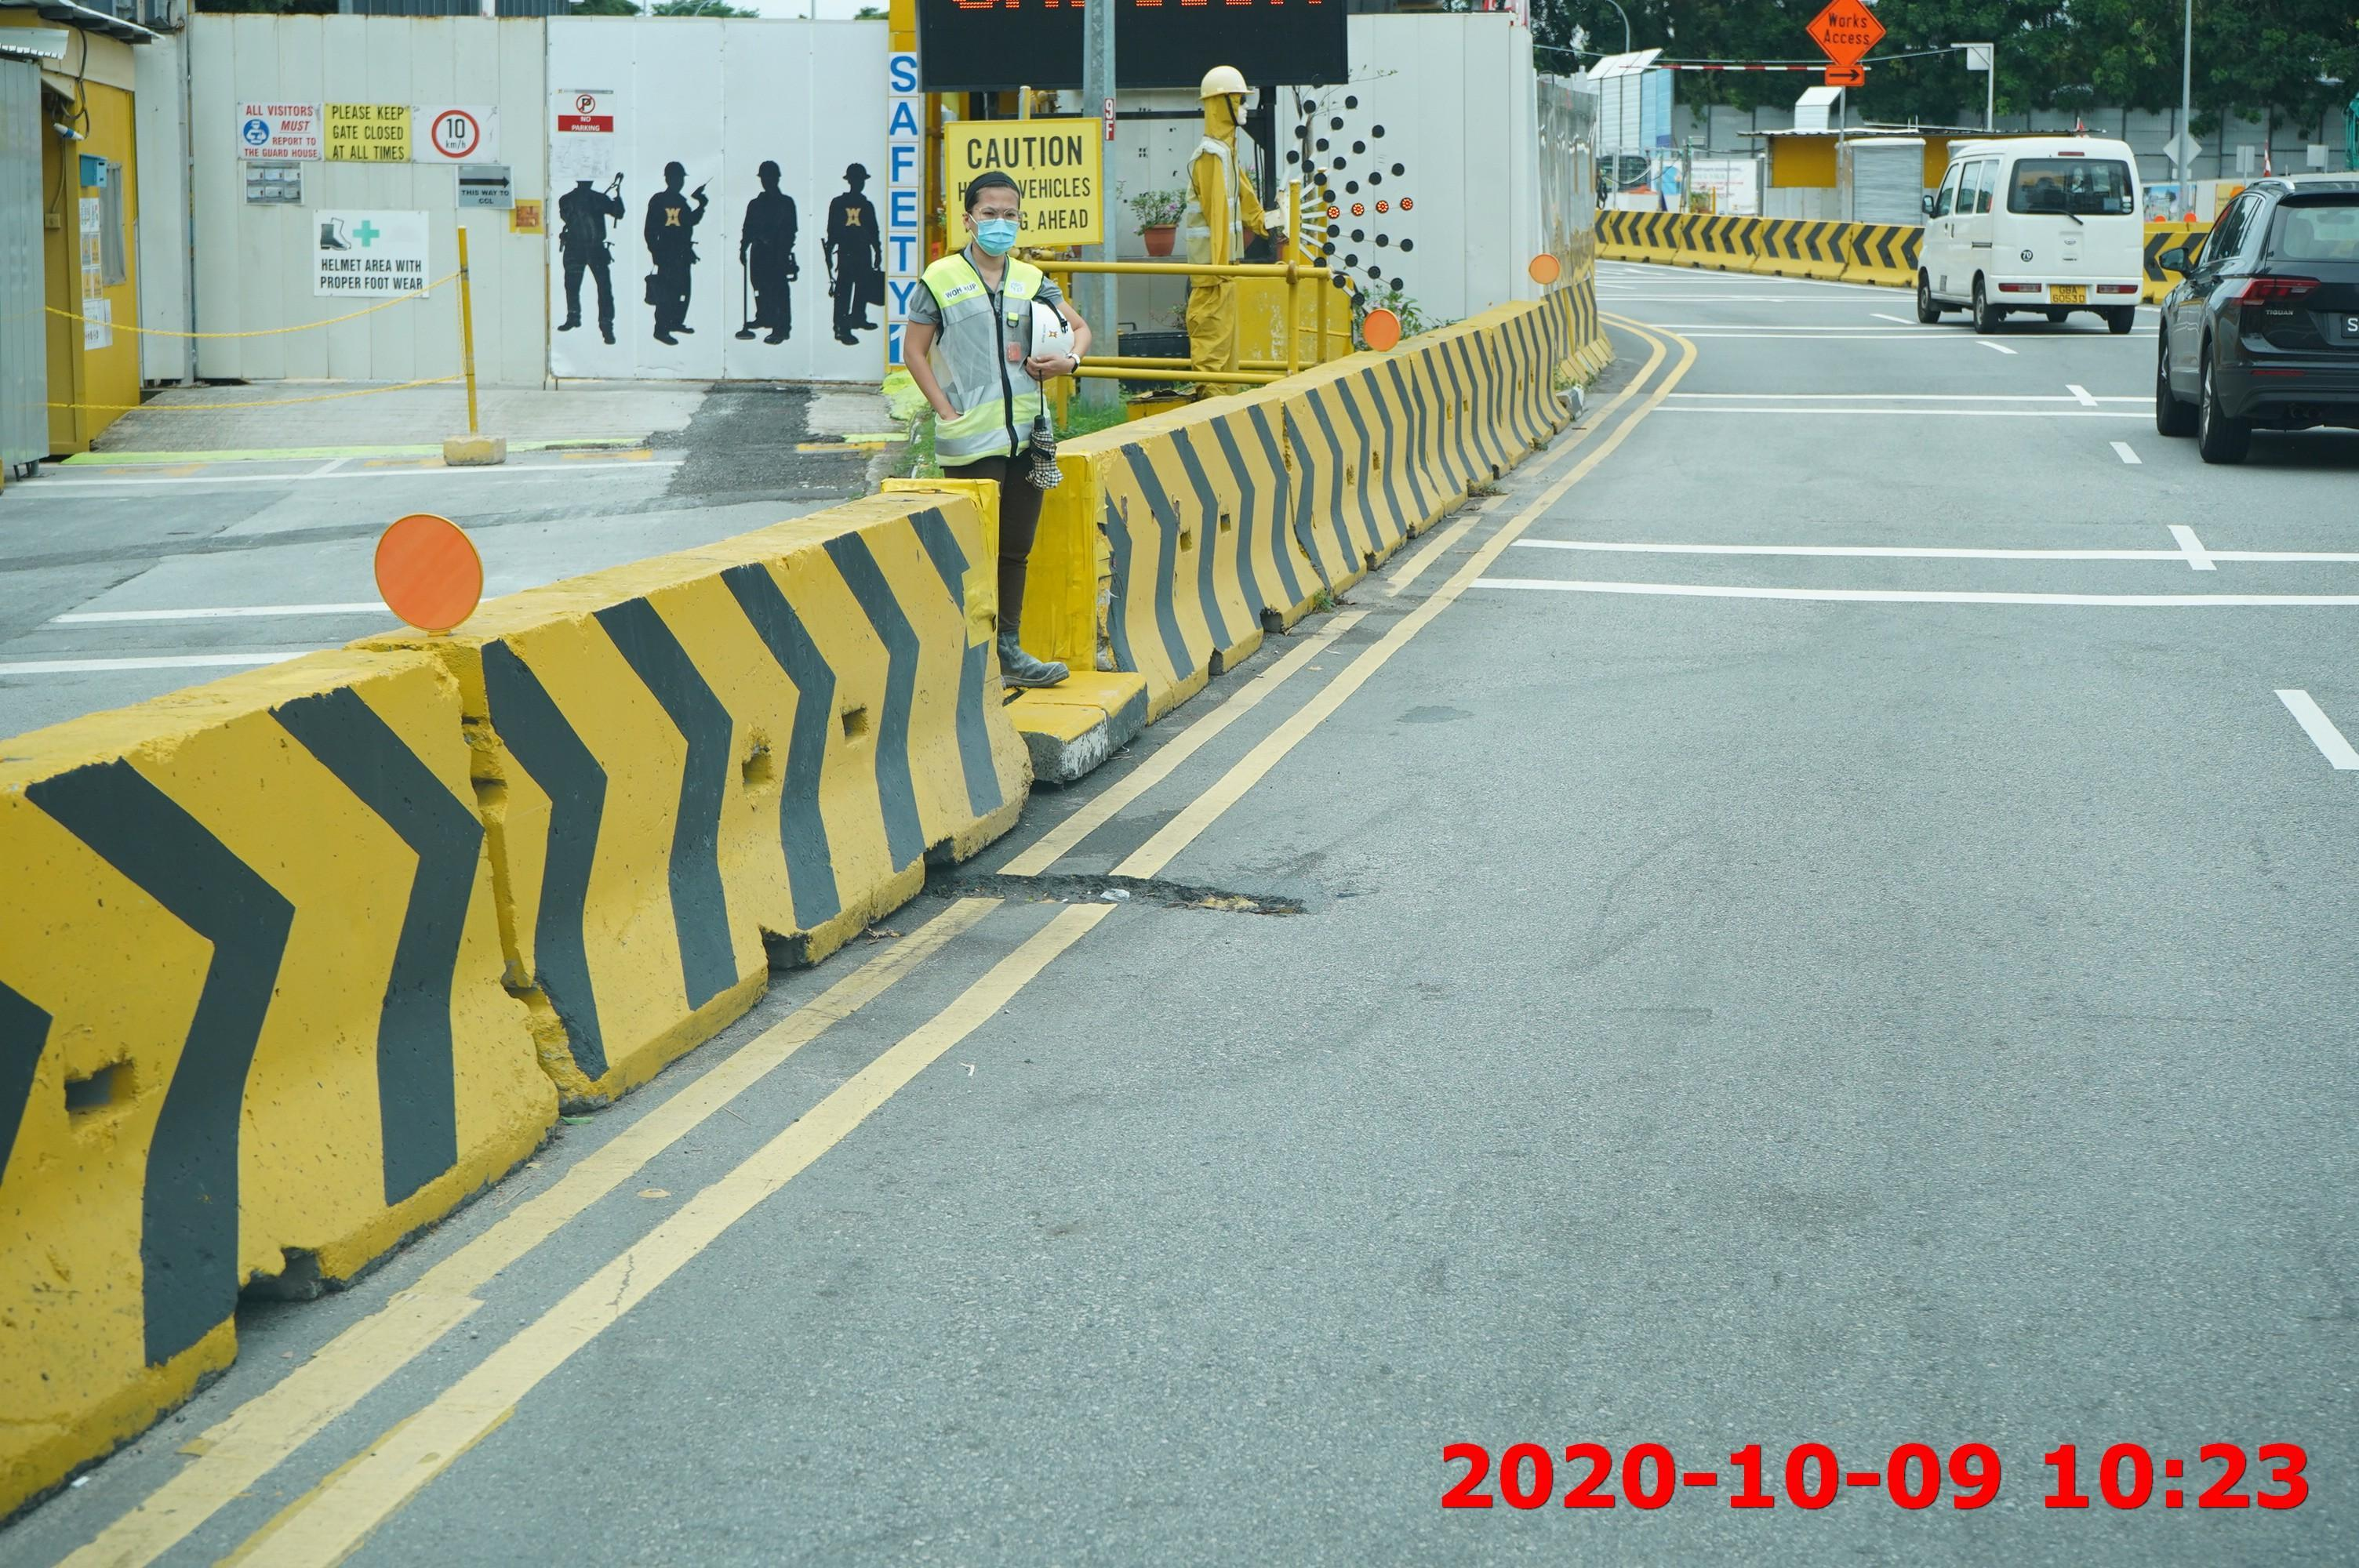peel off with cracks: (941, 859, 1311, 924)
